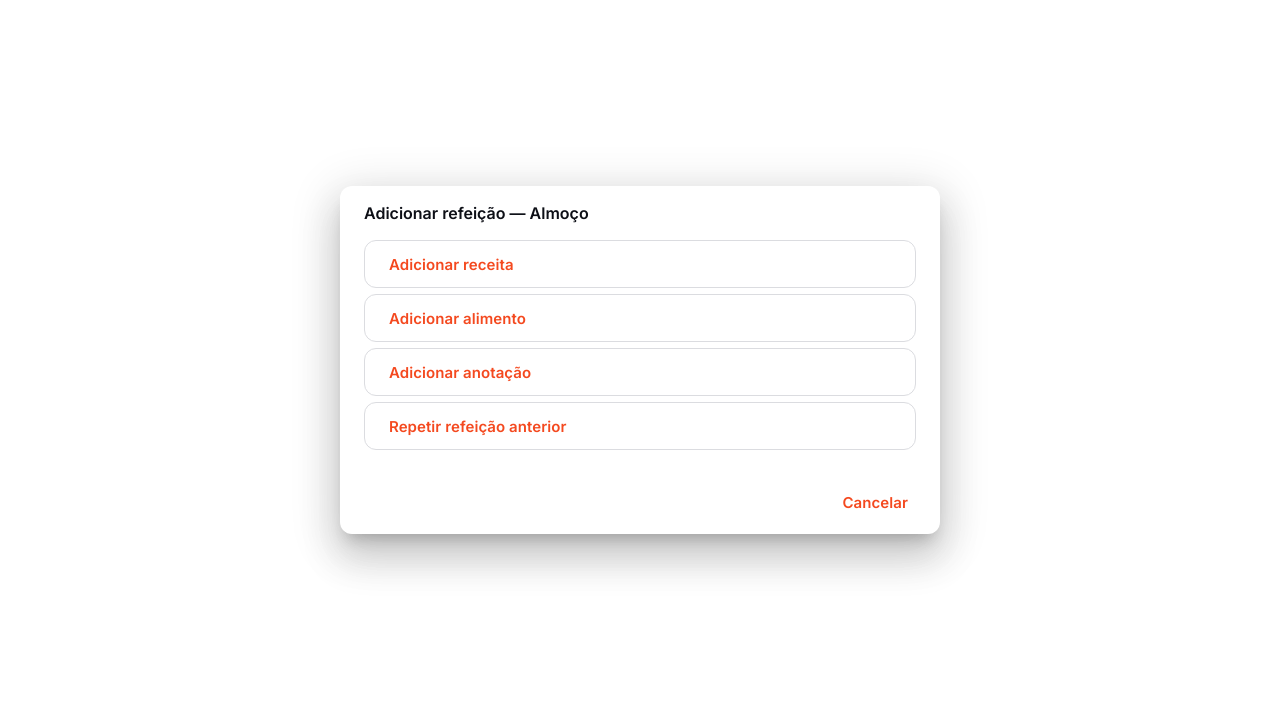
Test case: AddMealDialog › adds a recipe with chosen servings and time
Click the button "Adicionar receita".
click(451, 264)  # box [364, 240, 916, 288]
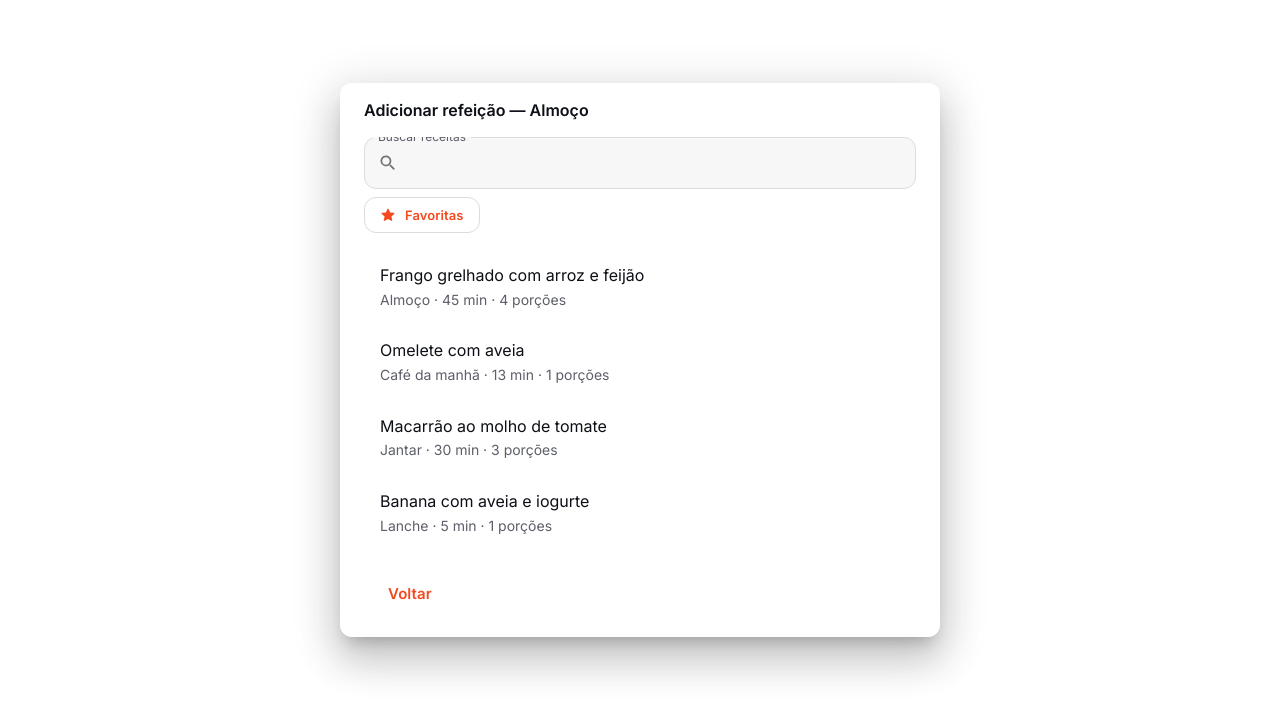
Type "Omelete" into the field labelled "Buscar receitas".
click(661, 163); type("Omelete")  # box [406, 138, 916, 189]
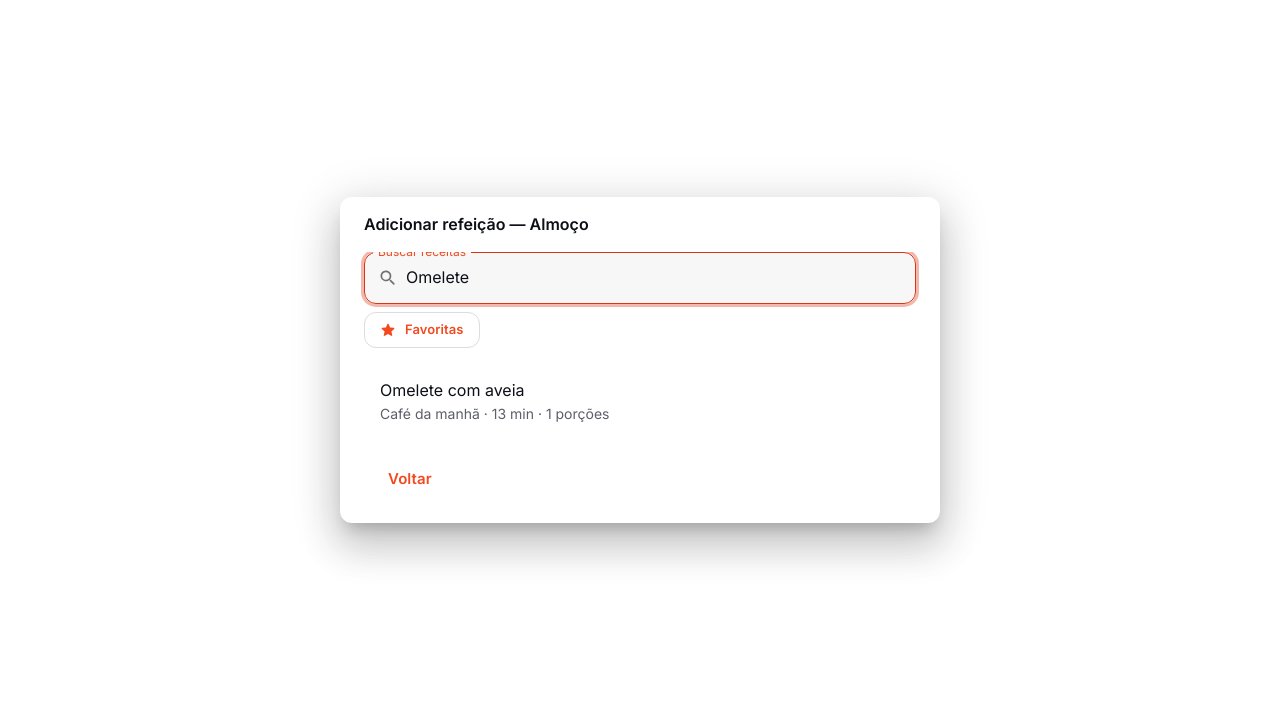
Click the text "Omelete com aveia".
click(452, 390)  # box [380, 380, 525, 400]
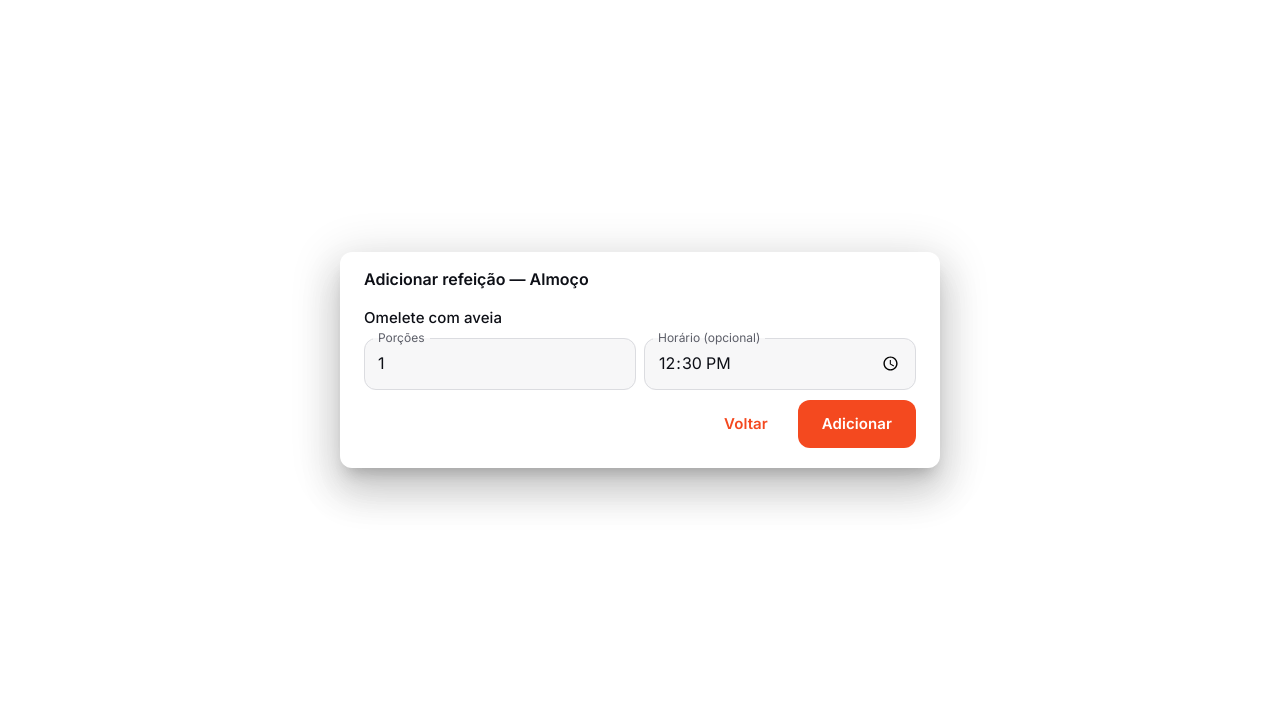
Replace the text in the number field labelled "Porções" with "3" at (500, 364), box [364, 338, 636, 389]
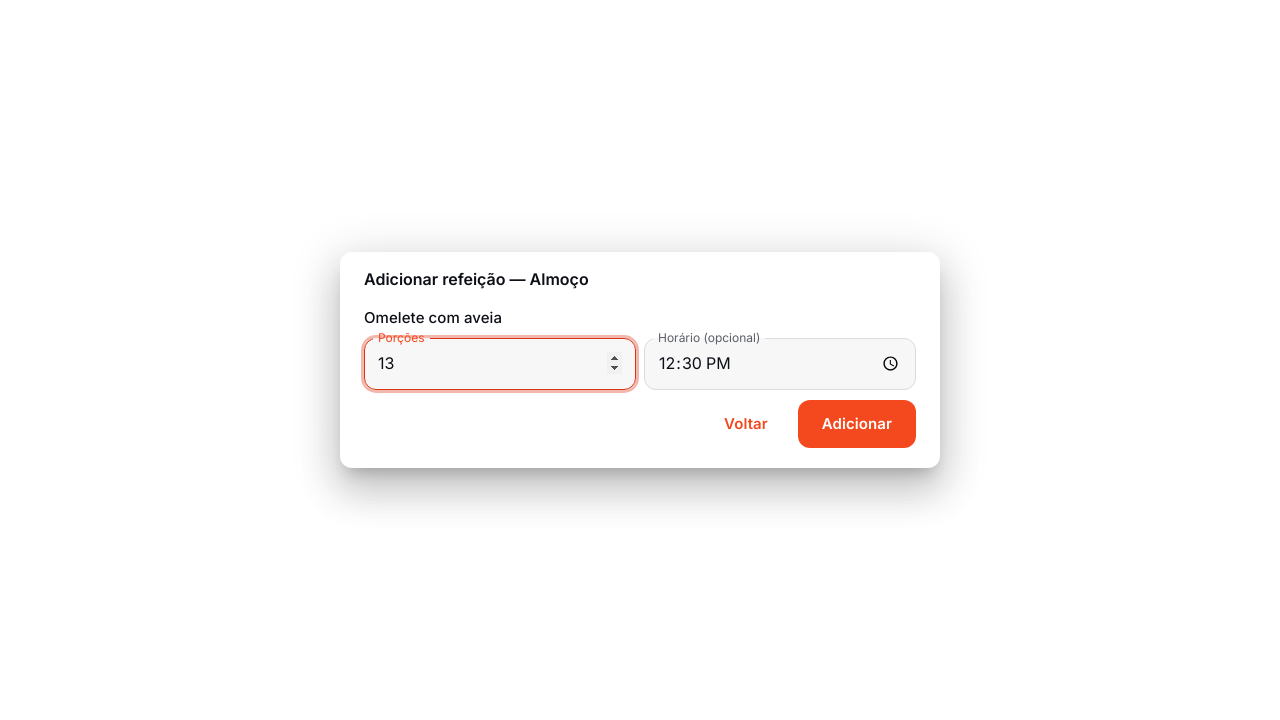
Click the button "Adicionar".
click(857, 424)  # box [798, 400, 916, 448]
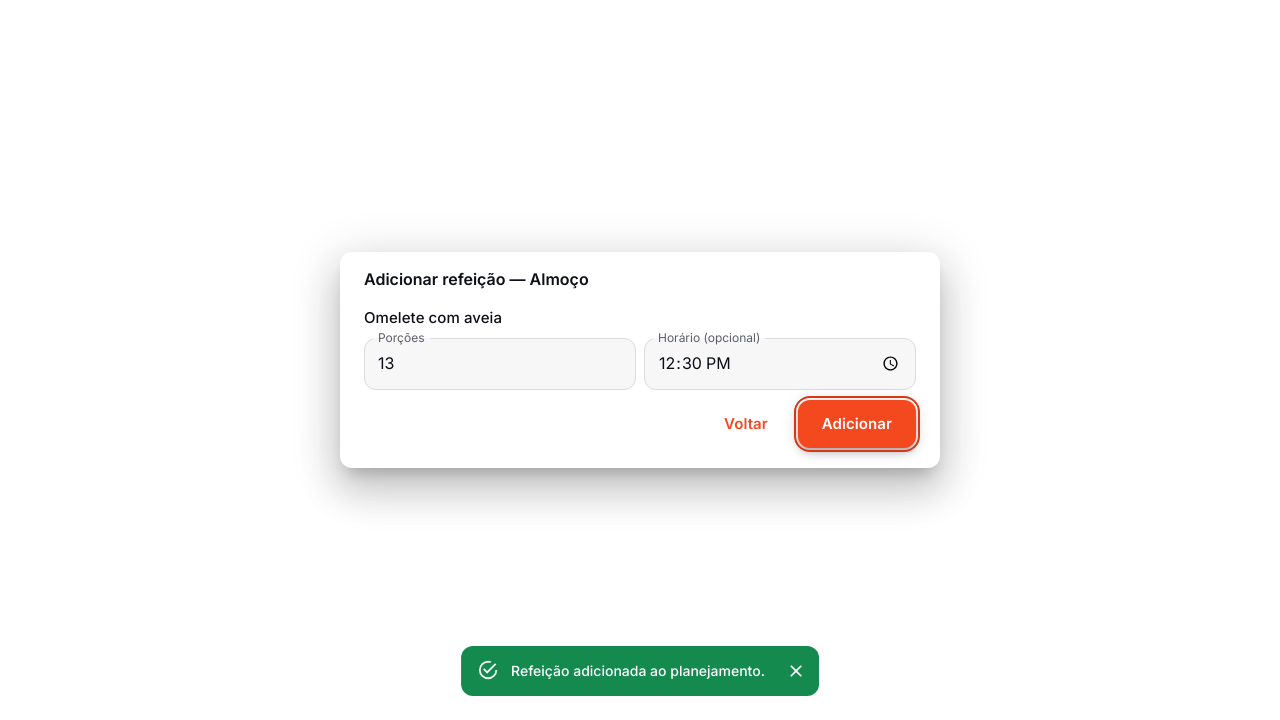
Result: the text "Refeição adicionada ao planejamento." is shown at [511, 662, 765, 679]
